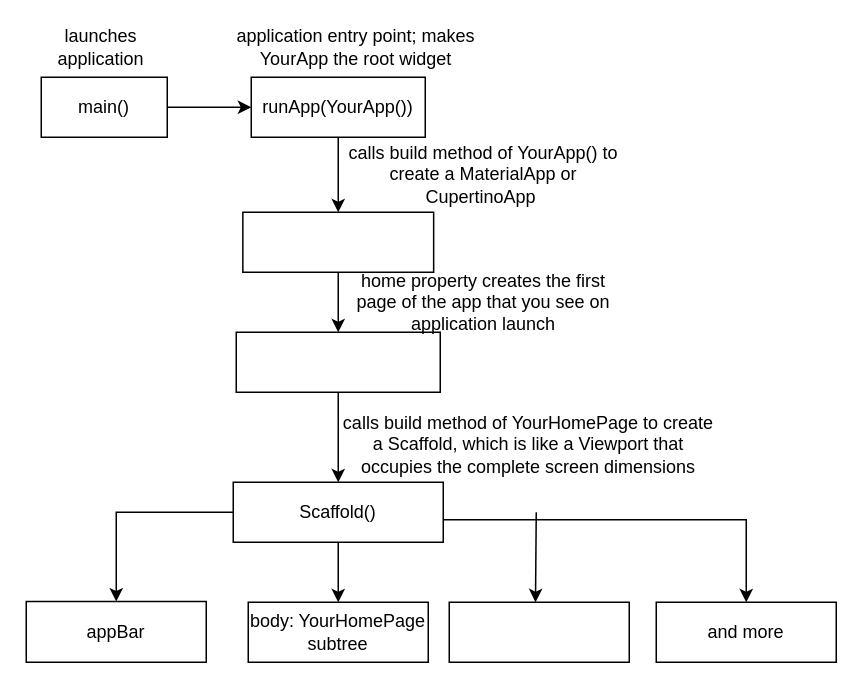
Image size: 863x689. Some labels were removed from this diagram. The shapes that lost their labels are listed below. From the top down, each one's centre as x and y in pixels, then its label:
[337,241]: MaterialApp() / CupertinoApp()
[337,361]: home: YourHomePage()
[538,631]: floatingActionButton
